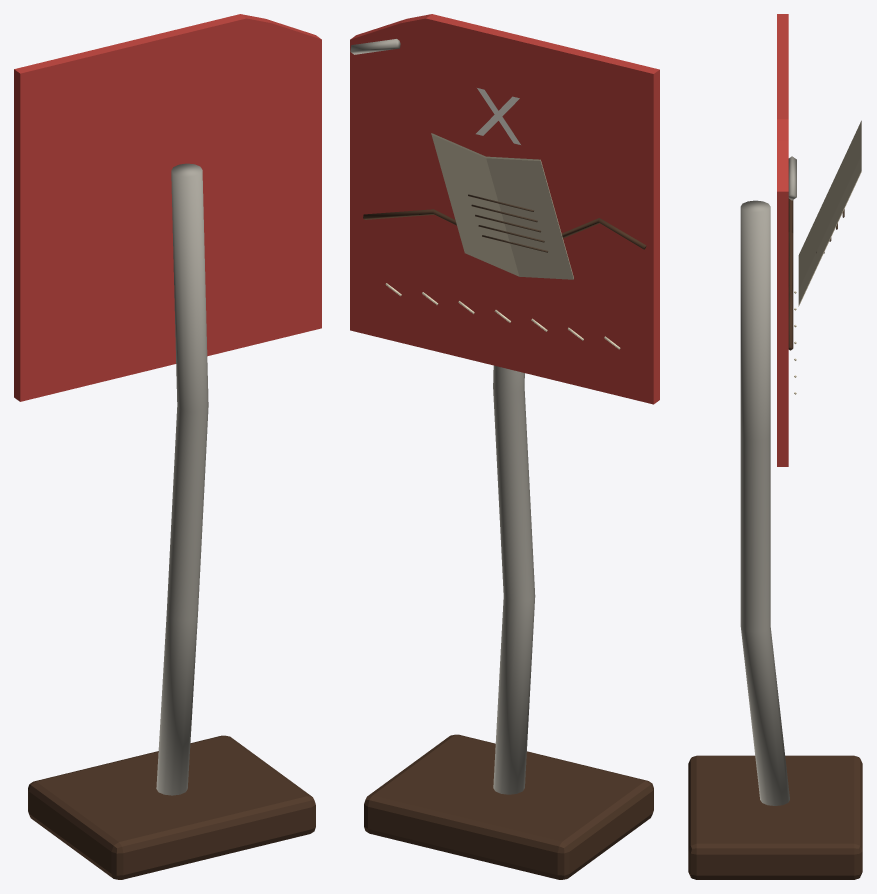
The model's file is Exhibit_4_marker.fbx.
3 views of the same model, side by side, from view 1: azimuth 30°, elevation 25°; view 2: azimuth 150°, elevation 25°; view 3: azimuth 270°, elevation 25° (orthographic). The views are drawn at different scales.
Parts seen in each view (by area): view 1: Exhibit_4_marker; view 2: Exhibit_4_marker; view 3: Exhibit_4_marker.
Part boxes in pixels (<box>): Exhibit_4_marker: <box>14,14,321,879</box>; Exhibit_4_marker: <box>350,14,659,879</box>; Exhibit_4_marker: <box>688,14,862,879</box>.
Bounding box in the file's own units: 0.2 × 0.105 × 0.5.
